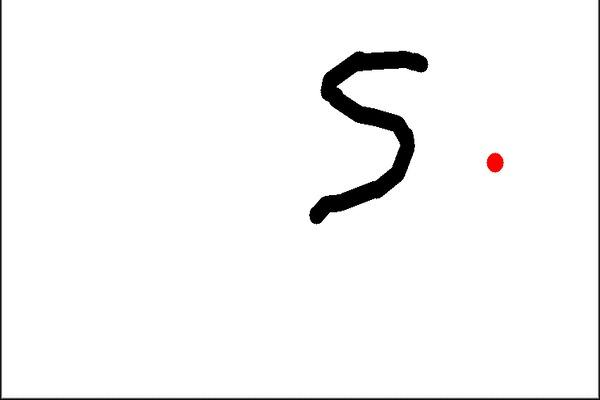S: (305, 46, 432, 228)
